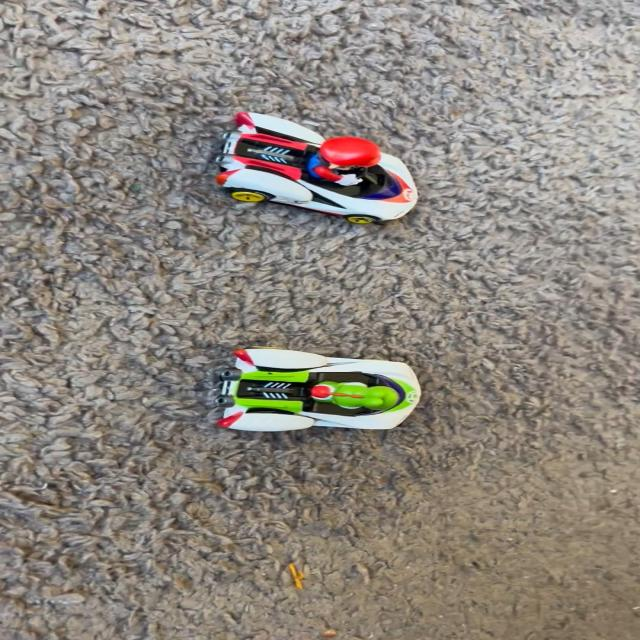mario: (199, 102, 437, 235)
yoshi: (214, 321, 439, 442)
